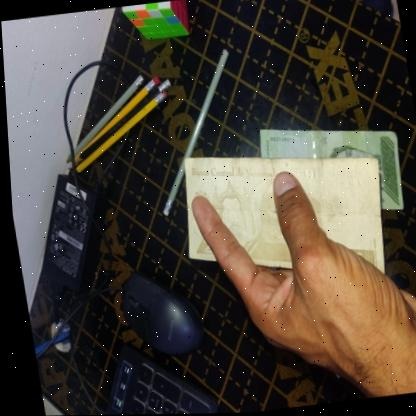fifty-front-vef: (254, 113, 406, 226)
five-back-vef: (169, 135, 393, 297)
